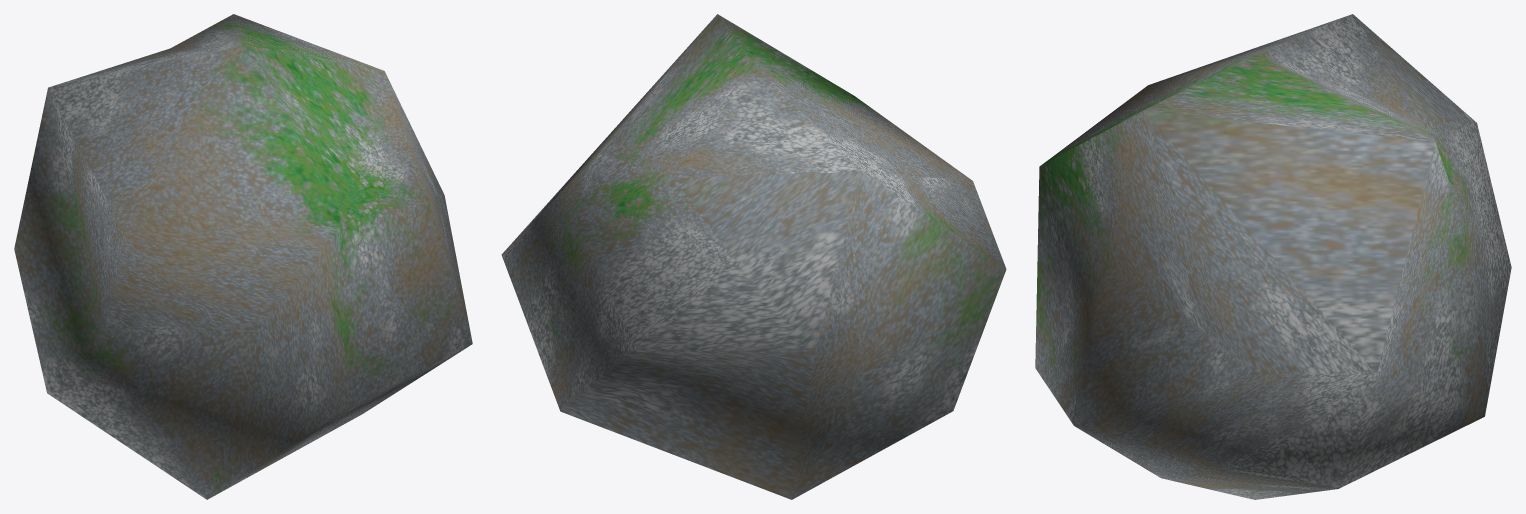
The model's file is Stone.fbx.
The picture shows the model from 3 angles, left to right: view 1: azimuth 30°, elevation 25°; view 2: azimuth 150°, elevation 25°; view 3: azimuth 270°, elevation 25°; orthographic projection. The views are drawn at different scales.
Parts seen in each view (by area): view 1: Stone_F_1_LOD3; view 2: Stone_F_1_LOD3; view 3: Stone_F_1_LOD3.
Part boxes in pixels (left/top/right/bottom): Stone_F_1_LOD3: left=14, top=14, right=472, bottom=499; Stone_F_1_LOD3: left=501, top=14, right=1006, bottom=499; Stone_F_1_LOD3: left=1035, top=14, right=1511, bottom=499.
Bounding box in the file's own units: 38.96 × 37.21 × 38.41.
Materials: 1 (1 with a texture image).
